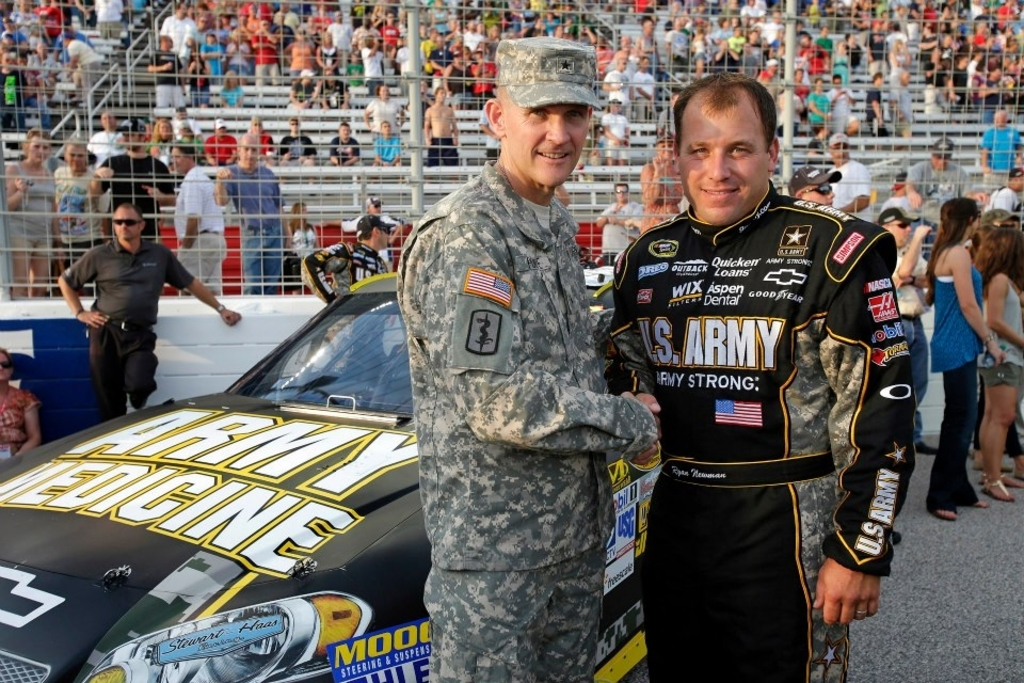person: (55, 198, 244, 421)
